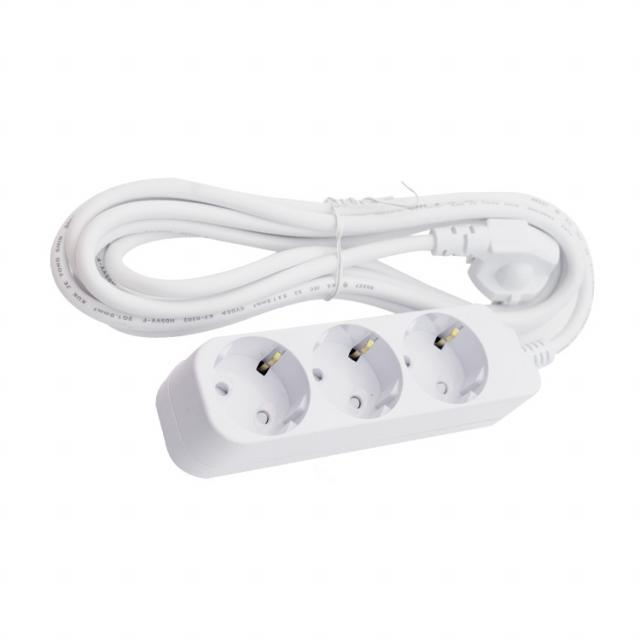typeb: (98, 256, 585, 489)
